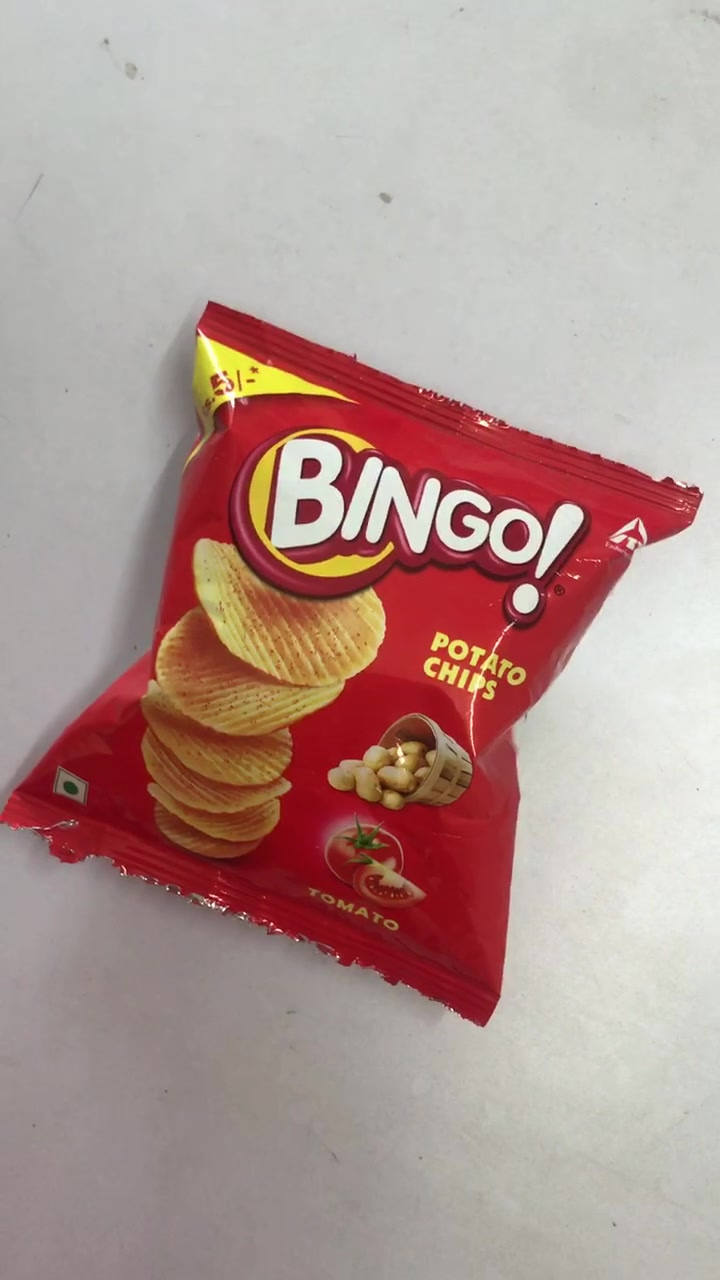Bingo: (1, 299, 703, 1028)
